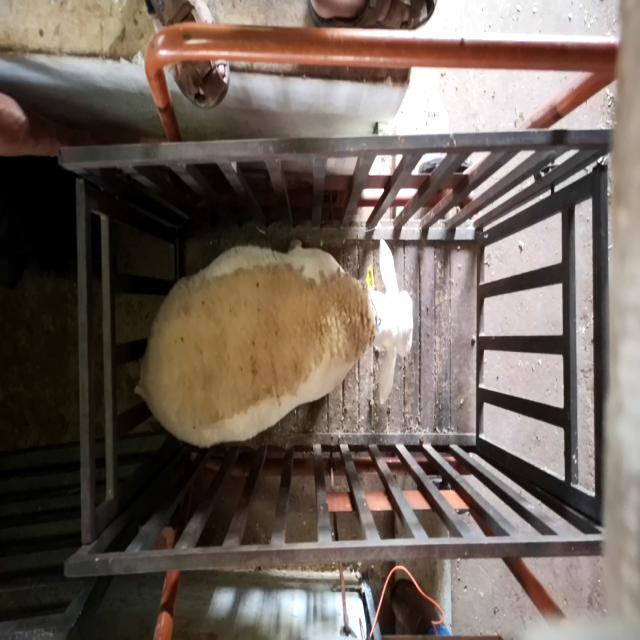sheep: (134, 239, 414, 449)
